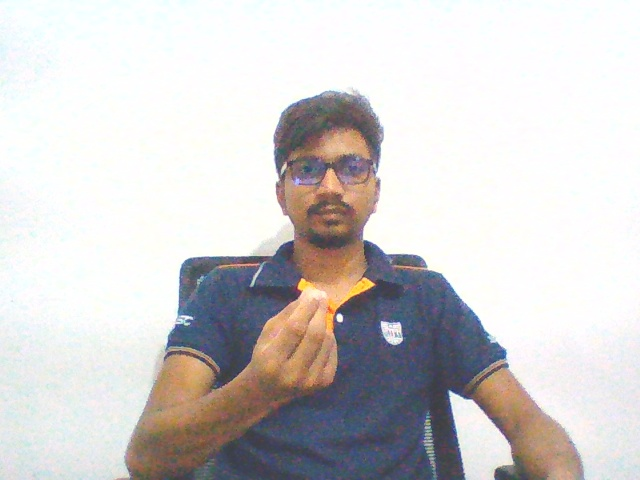dog: (242, 284, 345, 429)
